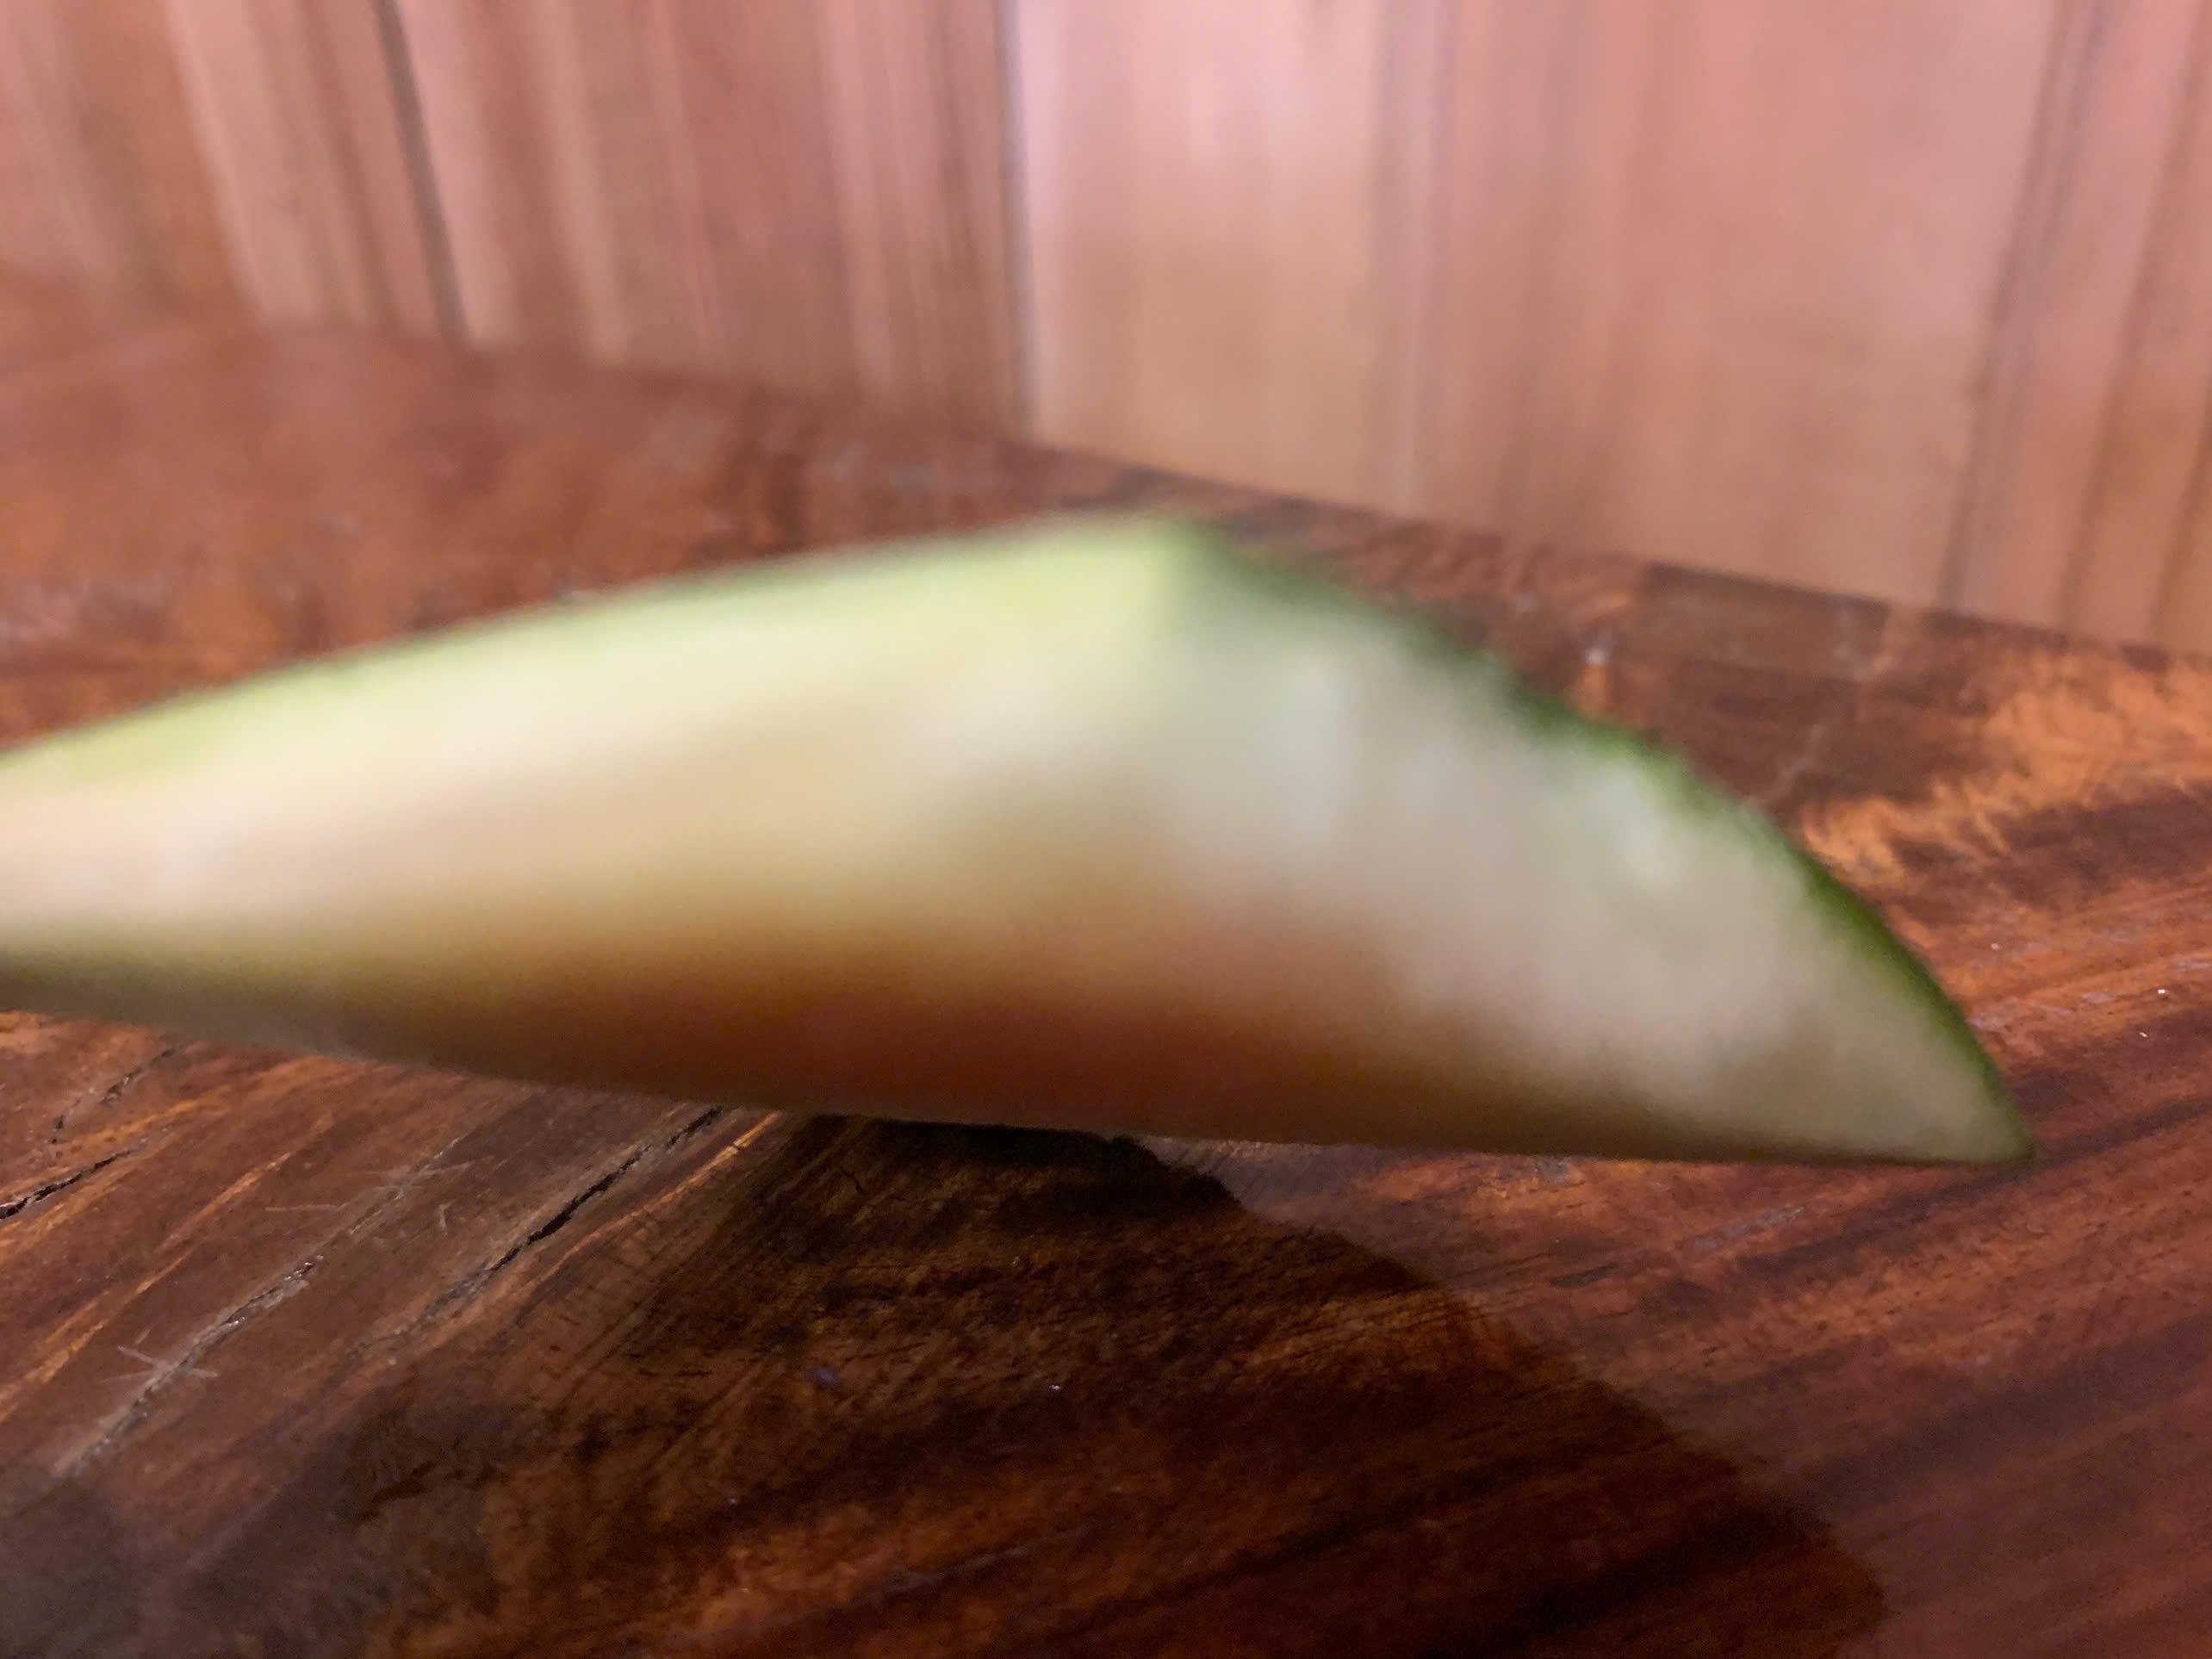Huu co: (9, 514, 2017, 1159)
